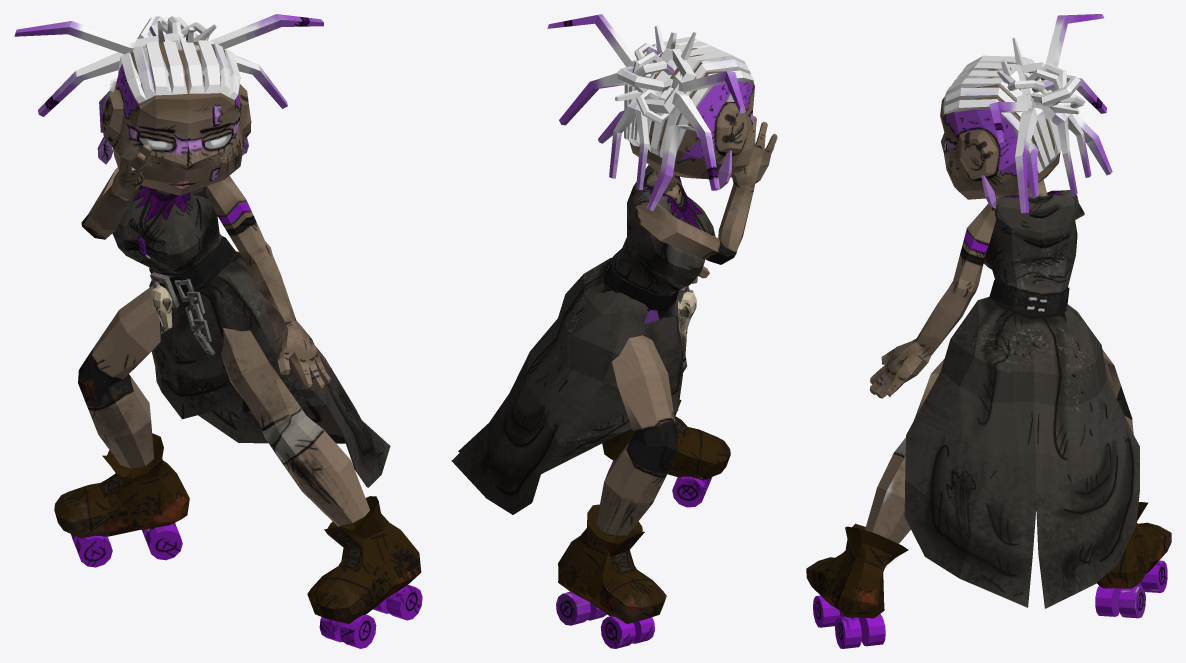
File: bruja_000028.obj
3 renders of one model, left to right at view 1: azimuth 30°, elevation 25°; view 2: azimuth 150°, elevation 25°; view 3: azimuth 270°, elevation 25°, orthographic. The views are drawn at different scales.
Visible parts, largest first — view 1: Bruja_Plane.001; view 2: Bruja_Plane.001; view 3: Bruja_Plane.001.
Part boxes in pixels (x1,y1,x2,y2): Bruja_Plane.001: (14, 14, 422, 648); Bruja_Plane.001: (451, 14, 777, 648); Bruja_Plane.001: (806, 14, 1171, 648).
Size of the model in its own units: 9.25 by 15.44 by 9.24.
